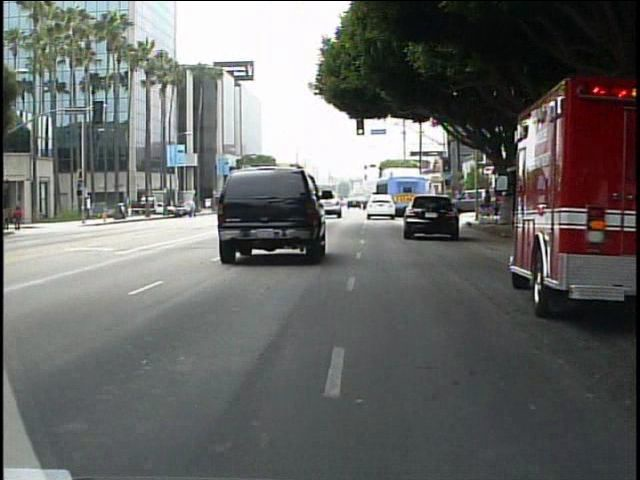person: (15, 202, 28, 234), (4, 203, 18, 232)
